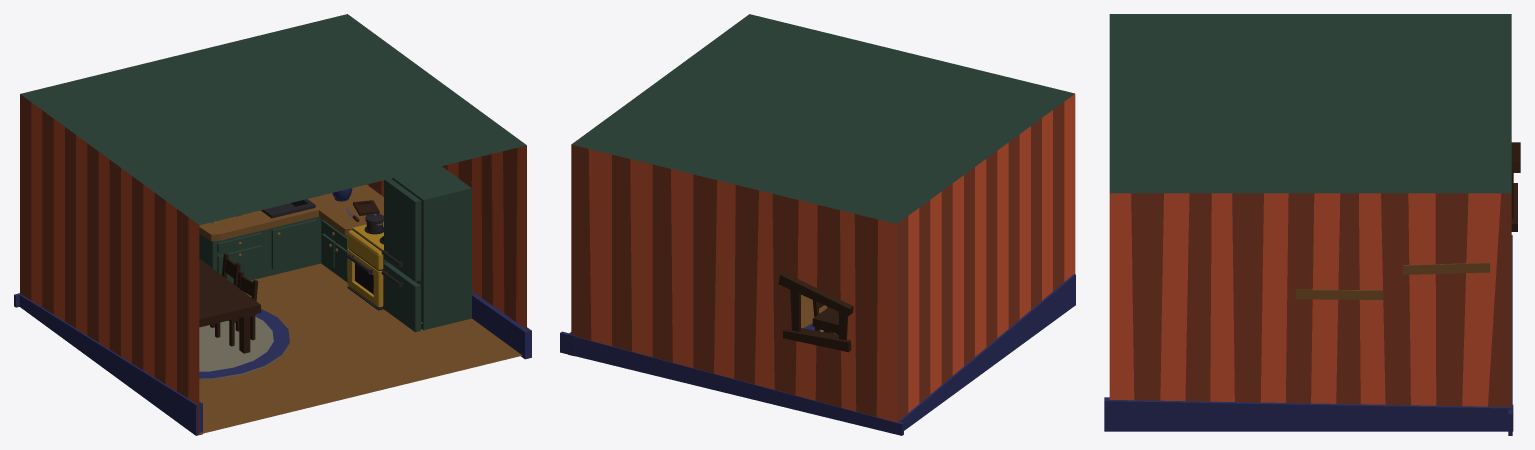
The model's file is Aunt_j_room.dae.
3 views of the same model, side by side, from view 1: azimuth 30°, elevation 25°; view 2: azimuth 150°, elevation 25°; view 3: azimuth 270°, elevation 25° (orthographic). The views are drawn at different scales.
Visible parts, largest first — view 1: polySurface21, polySurface20, pCube29, polySurface19, polySurface13, pCylinder27, pCube45, pCube46; view 2: polySurface20, polySurface21, polySurface13, polySurface18, pCube45; view 3: polySurface20, polySurface21, polySurface13, pCube30, pCube31, polySurface18.
Boxes of the visible parts, x1,y1,x2,y2 form: polySurface21: (20, 14, 526, 225); polySurface20: (20, 14, 526, 433); pCube29: (199, 166, 471, 332); polySurface19: (199, 263, 522, 434); polySurface13: (14, 291, 531, 435); pCylinder27: (199, 309, 289, 379); pCube45: (199, 258, 260, 353); pCube46: (215, 271, 258, 346); polySurface20: (571, 94, 1075, 422); polySurface21: (571, 14, 1074, 223); polySurface13: (560, 274, 1075, 435); polySurface18: (778, 272, 853, 352); pCube45: (812, 307, 838, 333); polySurface20: (1109, 193, 1511, 406); polySurface21: (1109, 14, 1511, 193); polySurface13: (1104, 235, 1513, 435); pCube30: (1295, 289, 1383, 299); pCube31: (1402, 262, 1490, 274); polySurface18: (1511, 142, 1520, 231).
Size of the model in its own units: 14.55 by 8.57 by 13.61.
